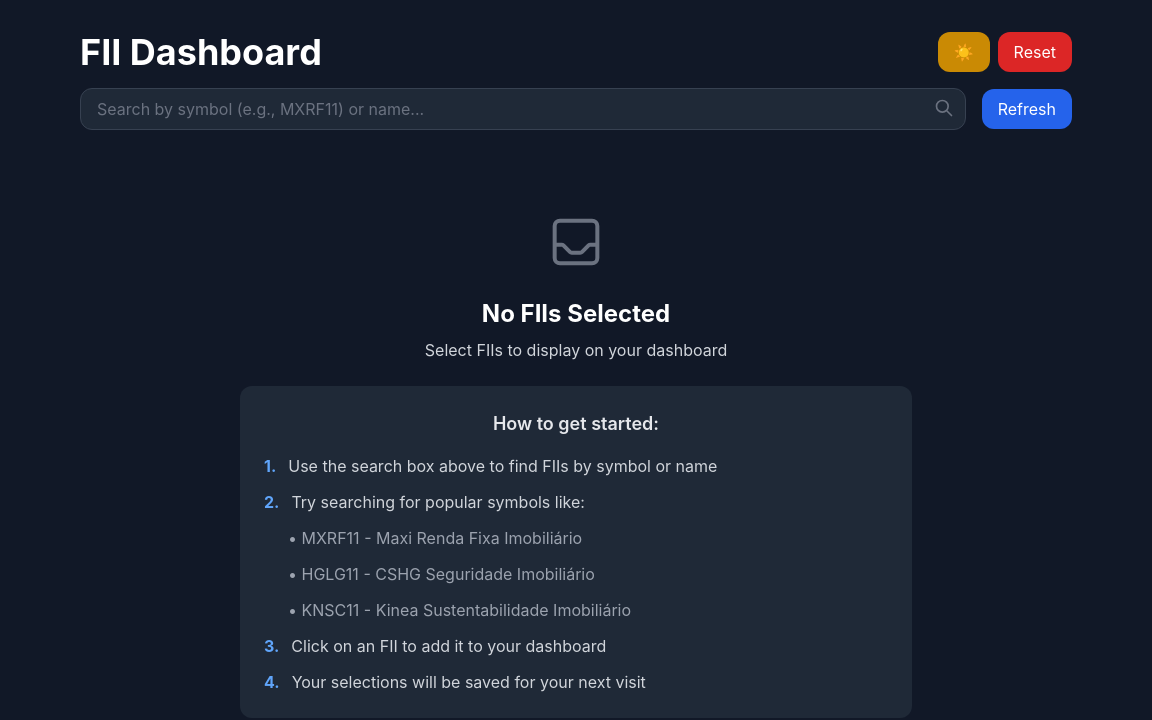
Test: DashboardLayoutWithPreferences Integration › Theme Persistence (Requirement 18.3) › should toggle theme and persist to localStorage
// Click theme toggle
Click the button titled "Switch to light mode" at {"x": 964, "y": 52}, box [938, 32, 990, 72]
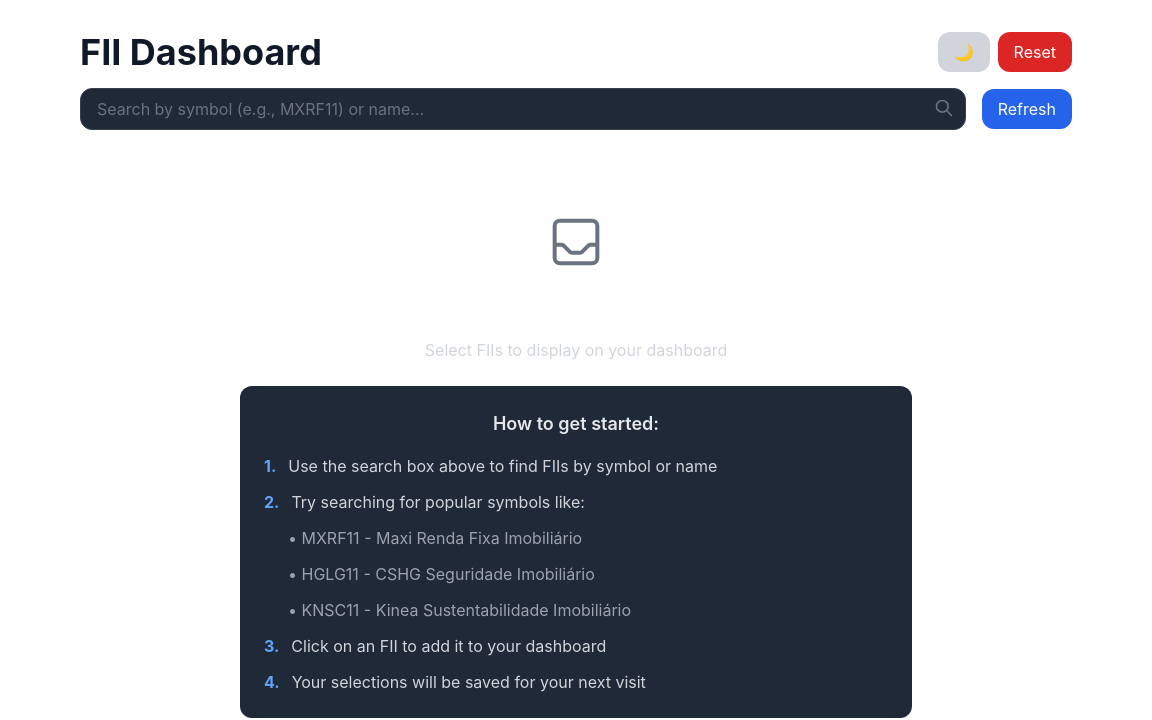
Expected: the button titled "Switch to dark mode" reads "🌙", [938, 32, 990, 72]
